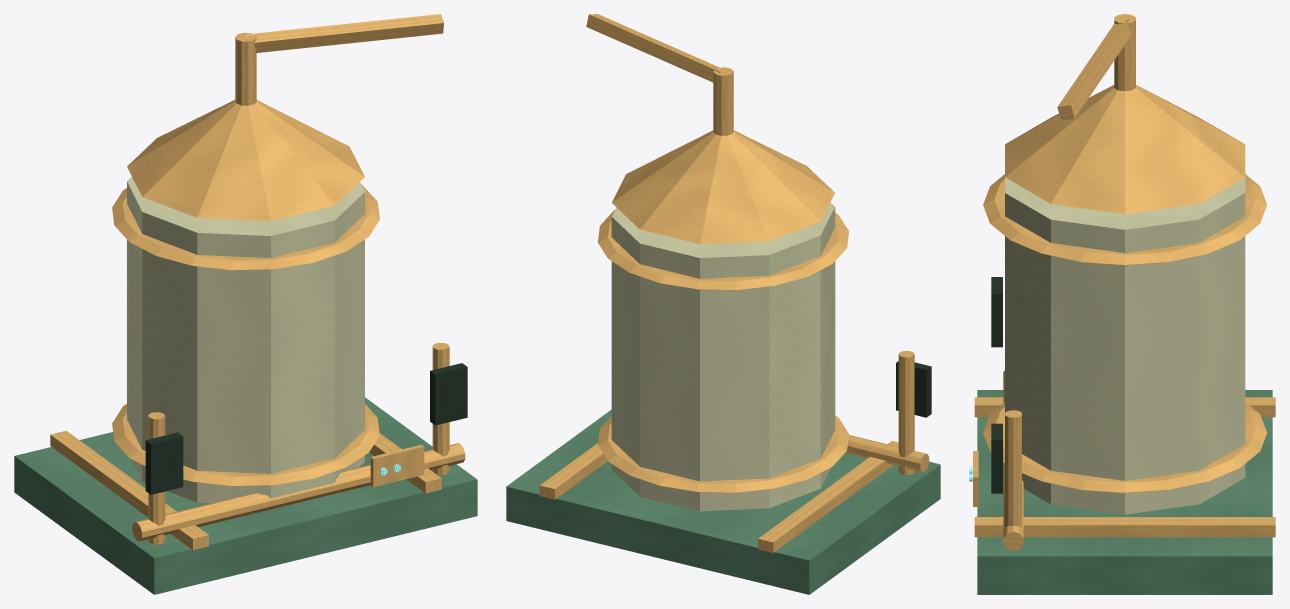
File: atlas100-s006-a01.glb
The picture shows the model from 3 angles, left to right: view 1: azimuth 30°, elevation 25°; view 2: azimuth 150°, elevation 25°; view 3: azimuth 270°, elevation 25°; orthographic projection. The views are drawn at different scales.
Parts seen in each view (by area): view 1: atlas100-s006-a01:part-003, atlas100-s006-a01:part-000, atlas100-s006-a01:part-007, atlas100-s006-a01:part-014, atlas100-s006-a01:part-005, atlas100-s006-a01:part-004, atlas100-s006-a01:part-009, atlas100-s006-a01:part-001, atlas100-s006-a01:part-011, atlas100-s006-a01:part-013, atlas100-s006-a01:part-015, atlas100-s006-a01:part-008 (+3 smaller); view 2: atlas100-s006-a01:part-003, atlas100-s006-a01:part-000, atlas100-s006-a01:part-007, atlas100-s006-a01:part-005, atlas100-s006-a01:part-004, atlas100-s006-a01:part-001, atlas100-s006-a01:part-009, atlas100-s006-a01:part-010, atlas100-s006-a01:part-002, atlas100-s006-a01:part-014, atlas100-s006-a01:part-008, atlas100-s006-a01:part-011; view 3: atlas100-s006-a01:part-003, atlas100-s006-a01:part-000, atlas100-s006-a01:part-007, atlas100-s006-a01:part-002, atlas100-s006-a01:part-005, atlas100-s006-a01:part-004, atlas100-s006-a01:part-009, atlas100-s006-a01:part-012, atlas100-s006-a01:part-008, atlas100-s006-a01:part-001, atlas100-s006-a01:part-011, atlas100-s006-a01:part-013 (+1 smaller).
Boxes of the visible parts, left/top/right/bottom form: atlas100-s006-a01:part-003: left=127, top=177, right=364, bottom=503; atlas100-s006-a01:part-000: left=14, top=397, right=477, bottom=594; atlas100-s006-a01:part-007: left=127, top=100, right=364, bottom=221; atlas100-s006-a01:part-014: left=132, top=443, right=465, bottom=541; atlas100-s006-a01:part-005: left=112, top=184, right=379, bottom=270; atlas100-s006-a01:part-004: left=112, top=404, right=379, bottom=486; atlas100-s006-a01:part-009: left=245, top=14, right=443, bottom=52; atlas100-s006-a01:part-001: left=50, top=430, right=208, bottom=550; atlas100-s006-a01:part-011: left=145, top=432, right=183, bottom=494; atlas100-s006-a01:part-013: left=430, top=363, right=467, bottom=425; atlas100-s006-a01:part-015: left=370, top=444, right=424, bottom=487; atlas100-s006-a01:part-008: left=235, top=32, right=256, bottom=105; atlas100-s006-a01:part-003: left=611, top=202, right=835, bottom=511; atlas100-s006-a01:part-000: left=506, top=409, right=940, bottom=594; atlas100-s006-a01:part-007: left=612, top=130, right=834, bottom=244; atlas100-s006-a01:part-005: left=598, top=210, right=848, bottom=290; atlas100-s006-a01:part-004: left=598, top=416, right=848, bottom=492; atlas100-s006-a01:part-001: left=758, top=441, right=898, bottom=552; atlas100-s006-a01:part-009: left=586, top=14, right=721, bottom=82; atlas100-s006-a01:part-010: left=898, top=350, right=914, bottom=474; atlas100-s006-a01:part-002: left=539, top=443, right=607, bottom=499; atlas100-s006-a01:part-014: left=845, top=435, right=929, bottom=471; atlas100-s006-a01:part-008: left=713, top=67, right=733, bottom=135; atlas100-s006-a01:part-011: left=896, top=361, right=931, bottom=417; atlas100-s006-a01:part-003: left=1005, top=177, right=1245, bottom=514; atlas100-s006-a01:part-000: left=977, top=390, right=1272, bottom=594; atlas100-s006-a01:part-007: left=1005, top=85, right=1245, bottom=214; atlas100-s006-a01:part-002: left=974, top=517, right=1275, bottom=537; atlas100-s006-a01:part-005: left=983, top=174, right=1266, bottom=265; atlas100-s006-a01:part-004: left=983, top=402, right=1266, bottom=492; atlas100-s006-a01:part-009: left=1057, top=18, right=1131, bottom=120; atlas100-s006-a01:part-012: left=1005, top=410, right=1021, bottom=547; atlas100-s006-a01:part-008: left=1114, top=14, right=1135, bottom=91; atlas100-s006-a01:part-001: left=974, top=397, right=1275, bottom=417; atlas100-s006-a01:part-011: left=991, top=277, right=1002, bottom=347; atlas100-s006-a01:part-013: left=991, top=423, right=1002, bottom=493.
Size of the model in its own units: 2.46 by 3.32 by 1.87.
Materials: 5 (5 with a texture image).
